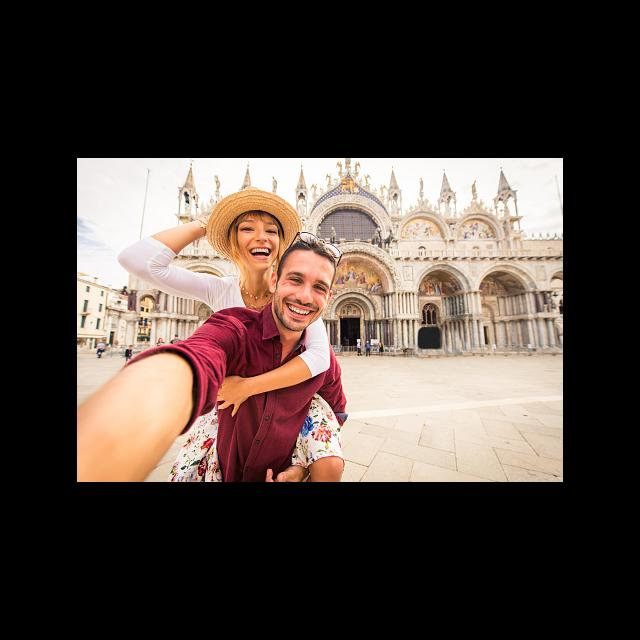female: (192, 188, 281, 267)
male: (276, 238, 348, 317)
